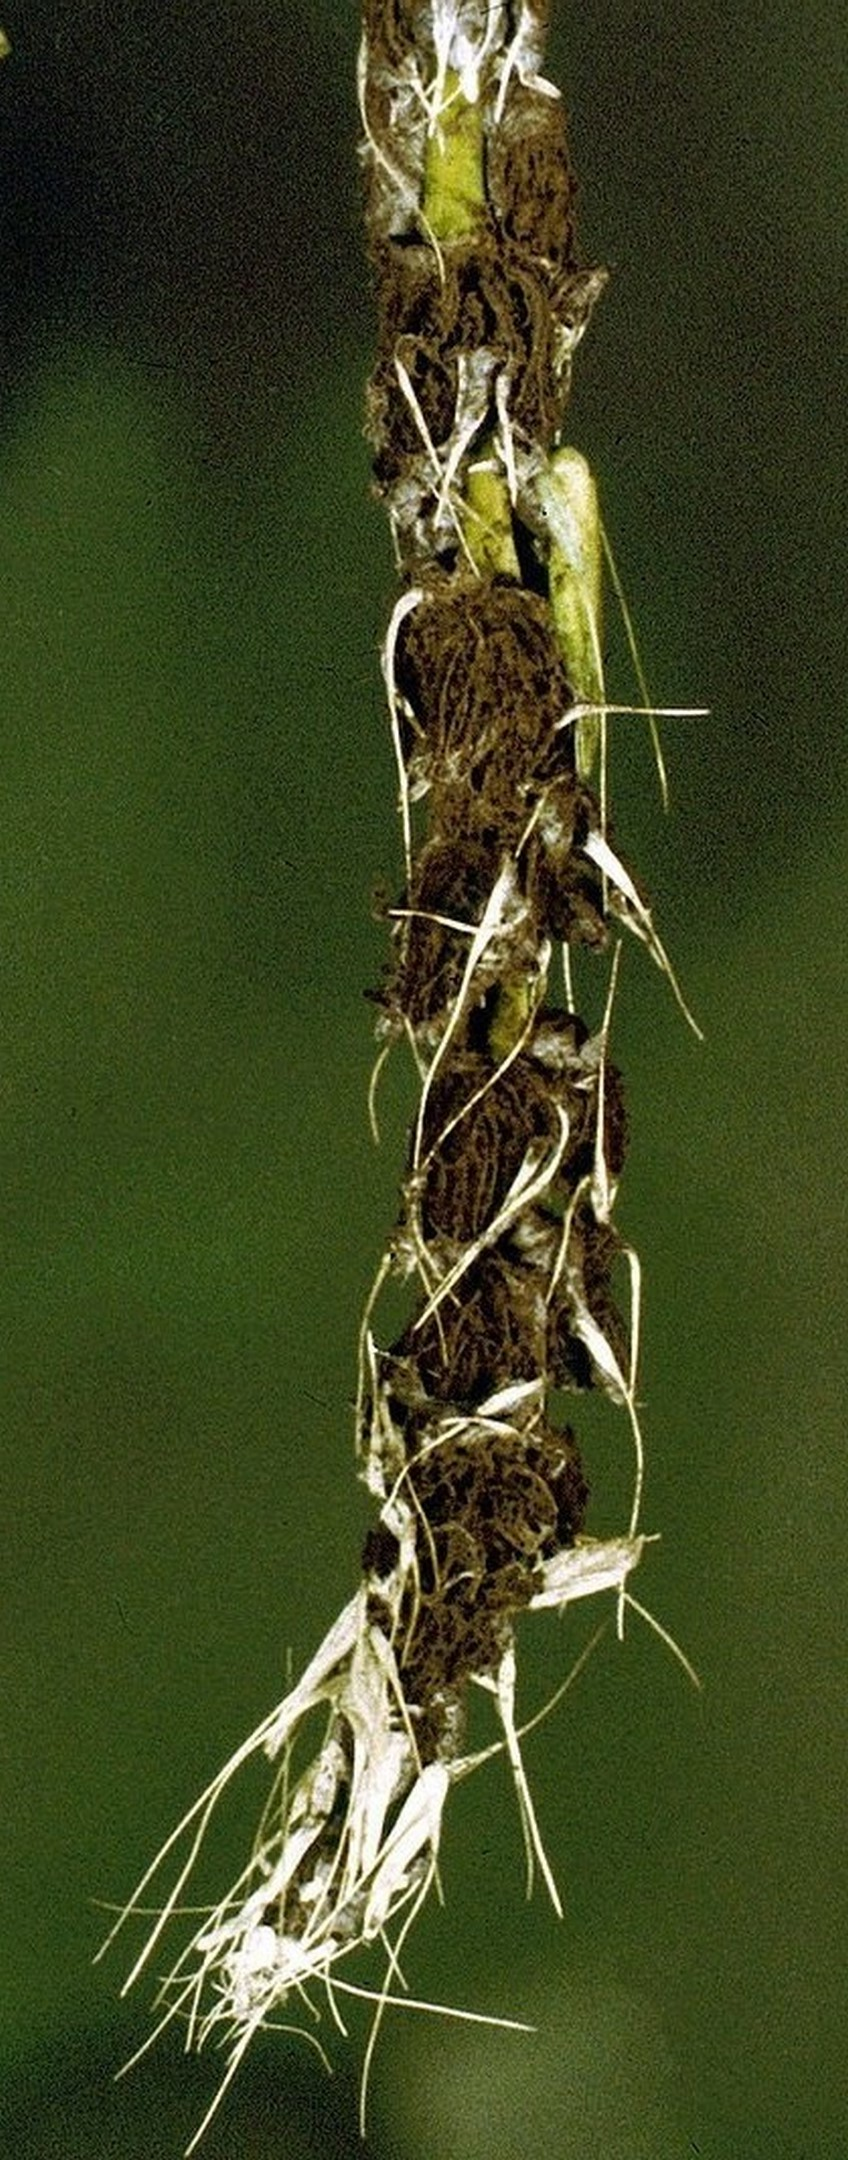Wheat Loose Smut: (264, 52, 709, 2108)
